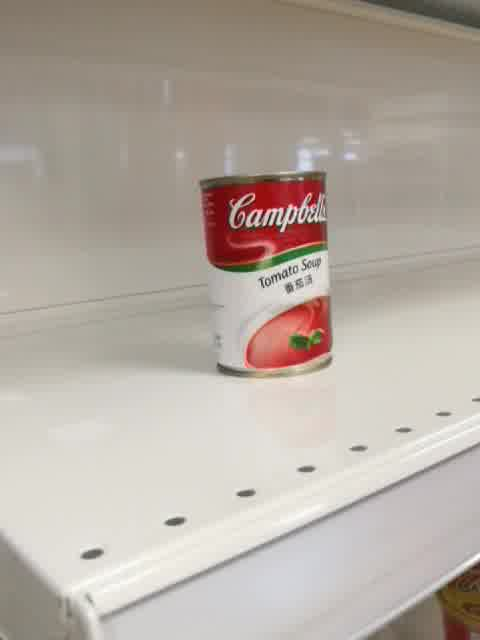tomatosoup: (197, 170, 335, 380)
